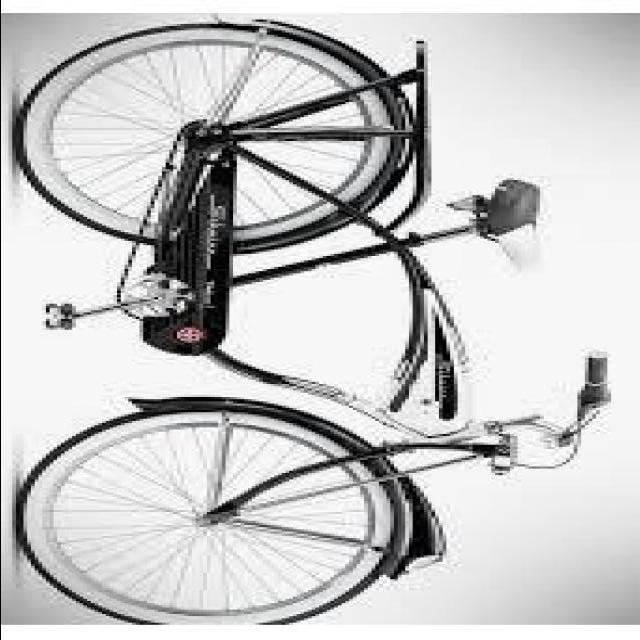bicycle: (46, 38, 615, 628)
